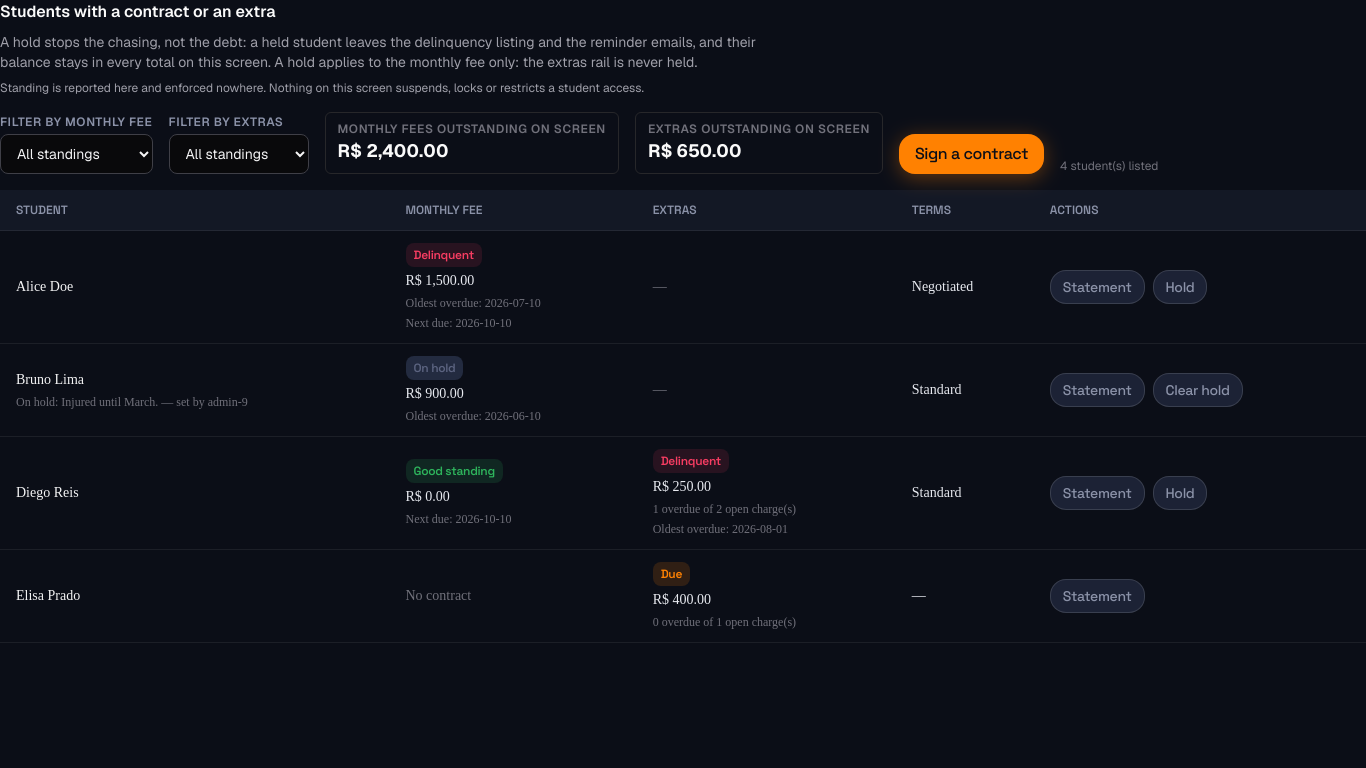
Test: StudentsTab › refuses to set a hold without a reason
Click the button "Hold" in the row of "Alice Doe". click: [1180, 287]
box: x1=1152 y1=270 x2=1208 y2=304
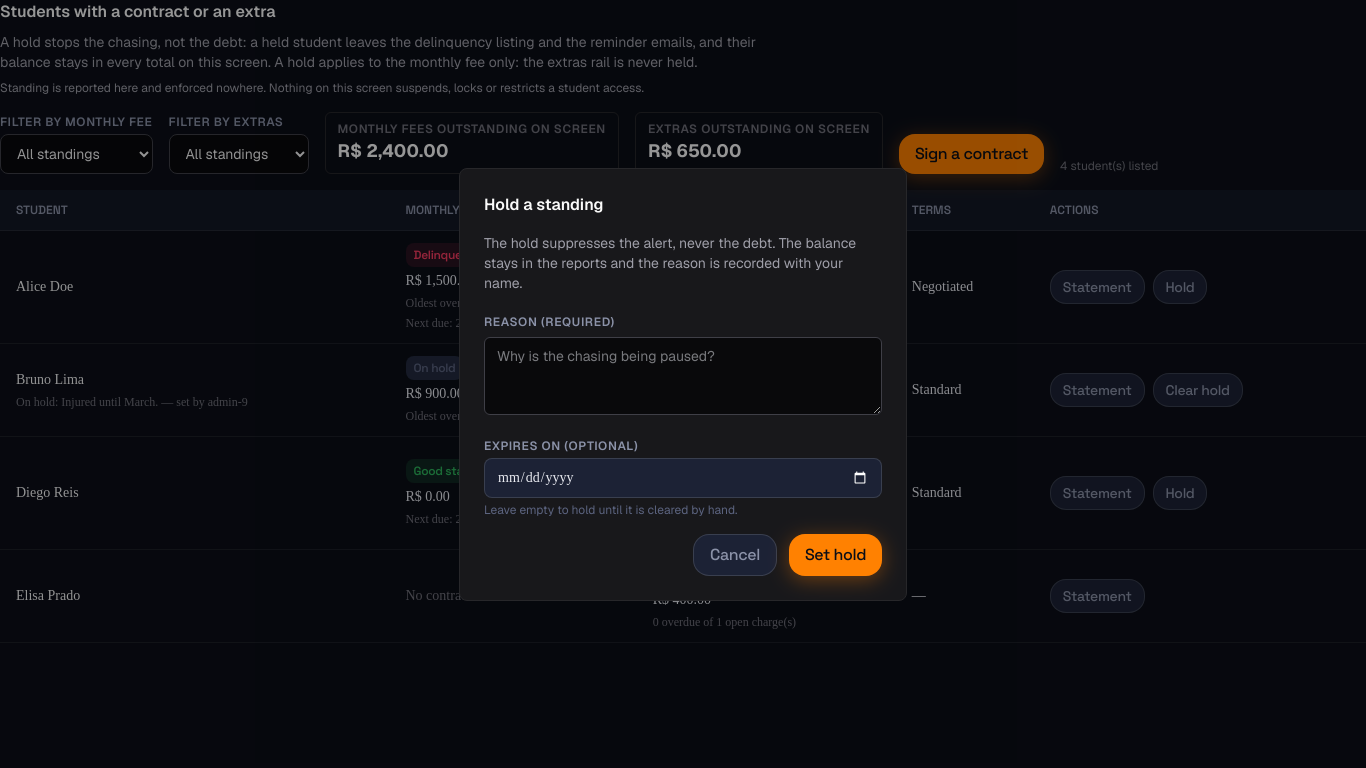
Click the button "Set hold". click: [836, 554]
box: x1=789 y1=534 x2=882 y2=576
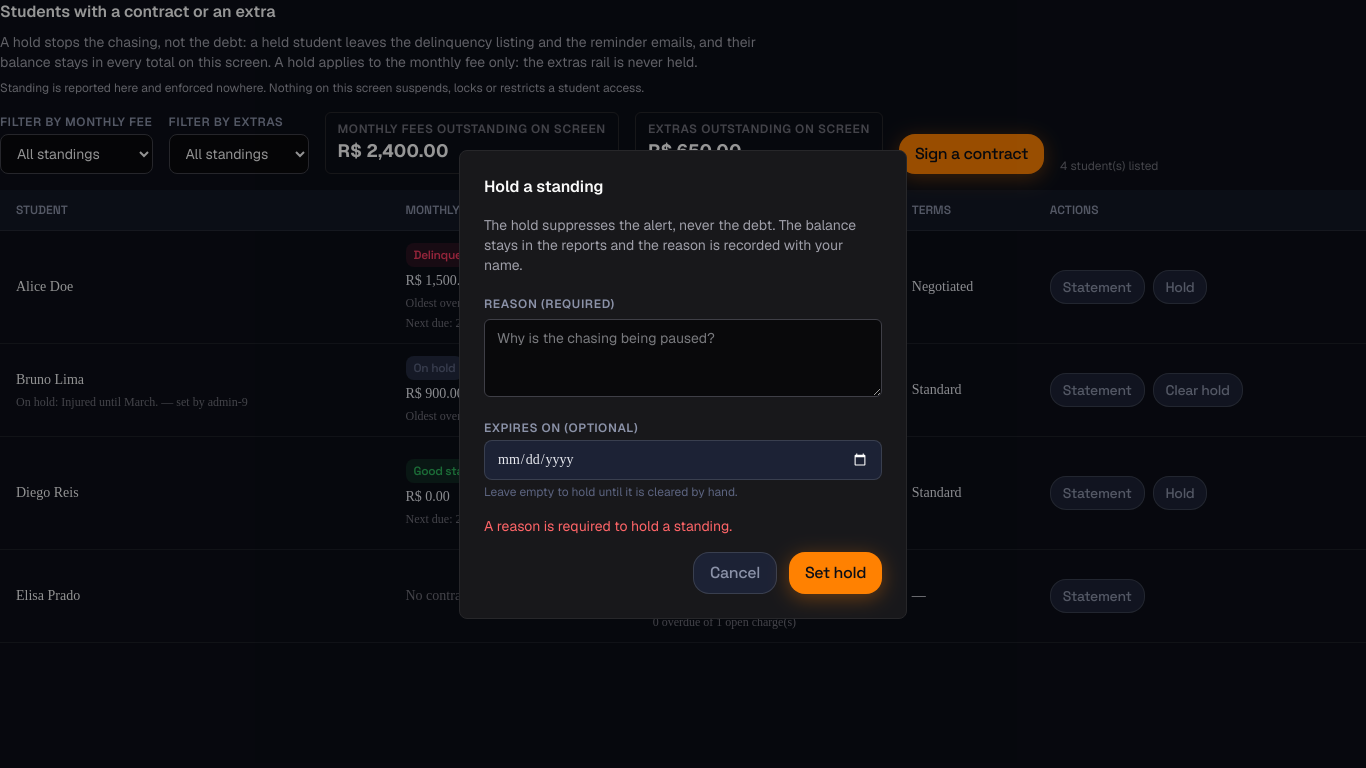
Result: the text "A reason is required to hold a standing." is shown at x1=484 y1=516 x2=732 y2=534
